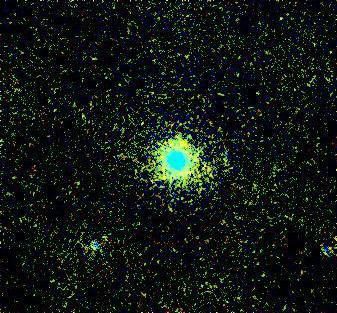star: (171, 129, 201, 159)
